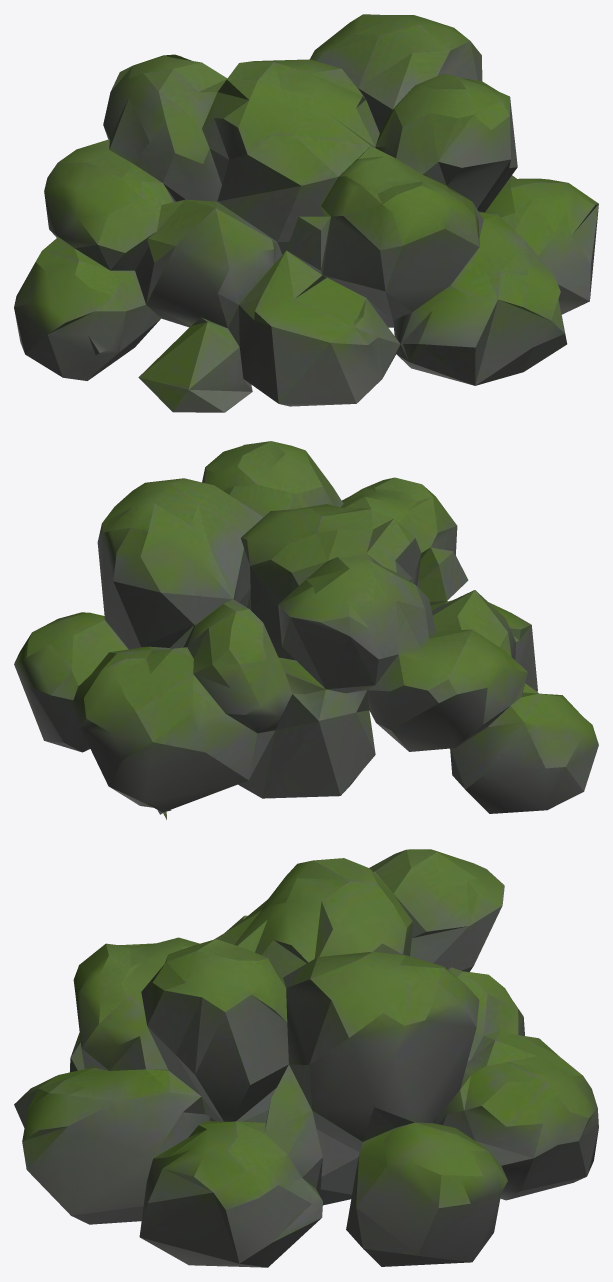
File: rock.glb
3 views of the same model, one above another, from view 1: azimuth 30°, elevation 25°; view 2: azimuth 150°, elevation 25°; view 3: azimuth 270°, elevation 25° (orthographic). The views are drawn at different scales.
Size of the model in its own units: 1.88 by 0.8797 by 1.68.
1 material, 1 textured.
